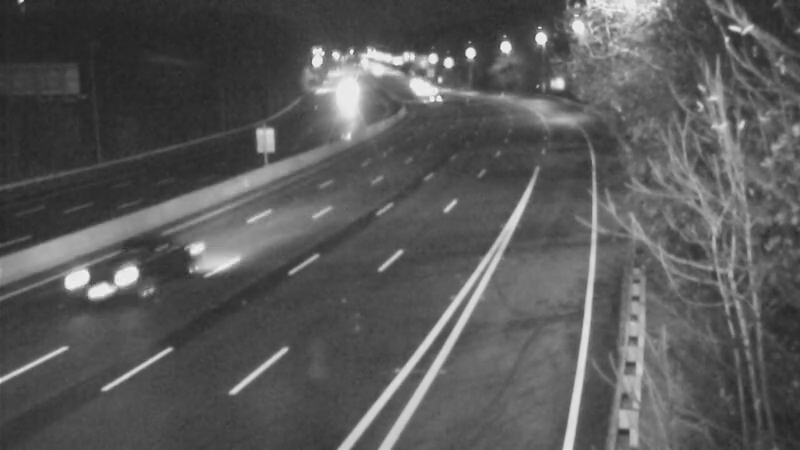vehicle: (64, 241, 144, 321), (384, 61, 434, 111), (408, 73, 458, 123)
